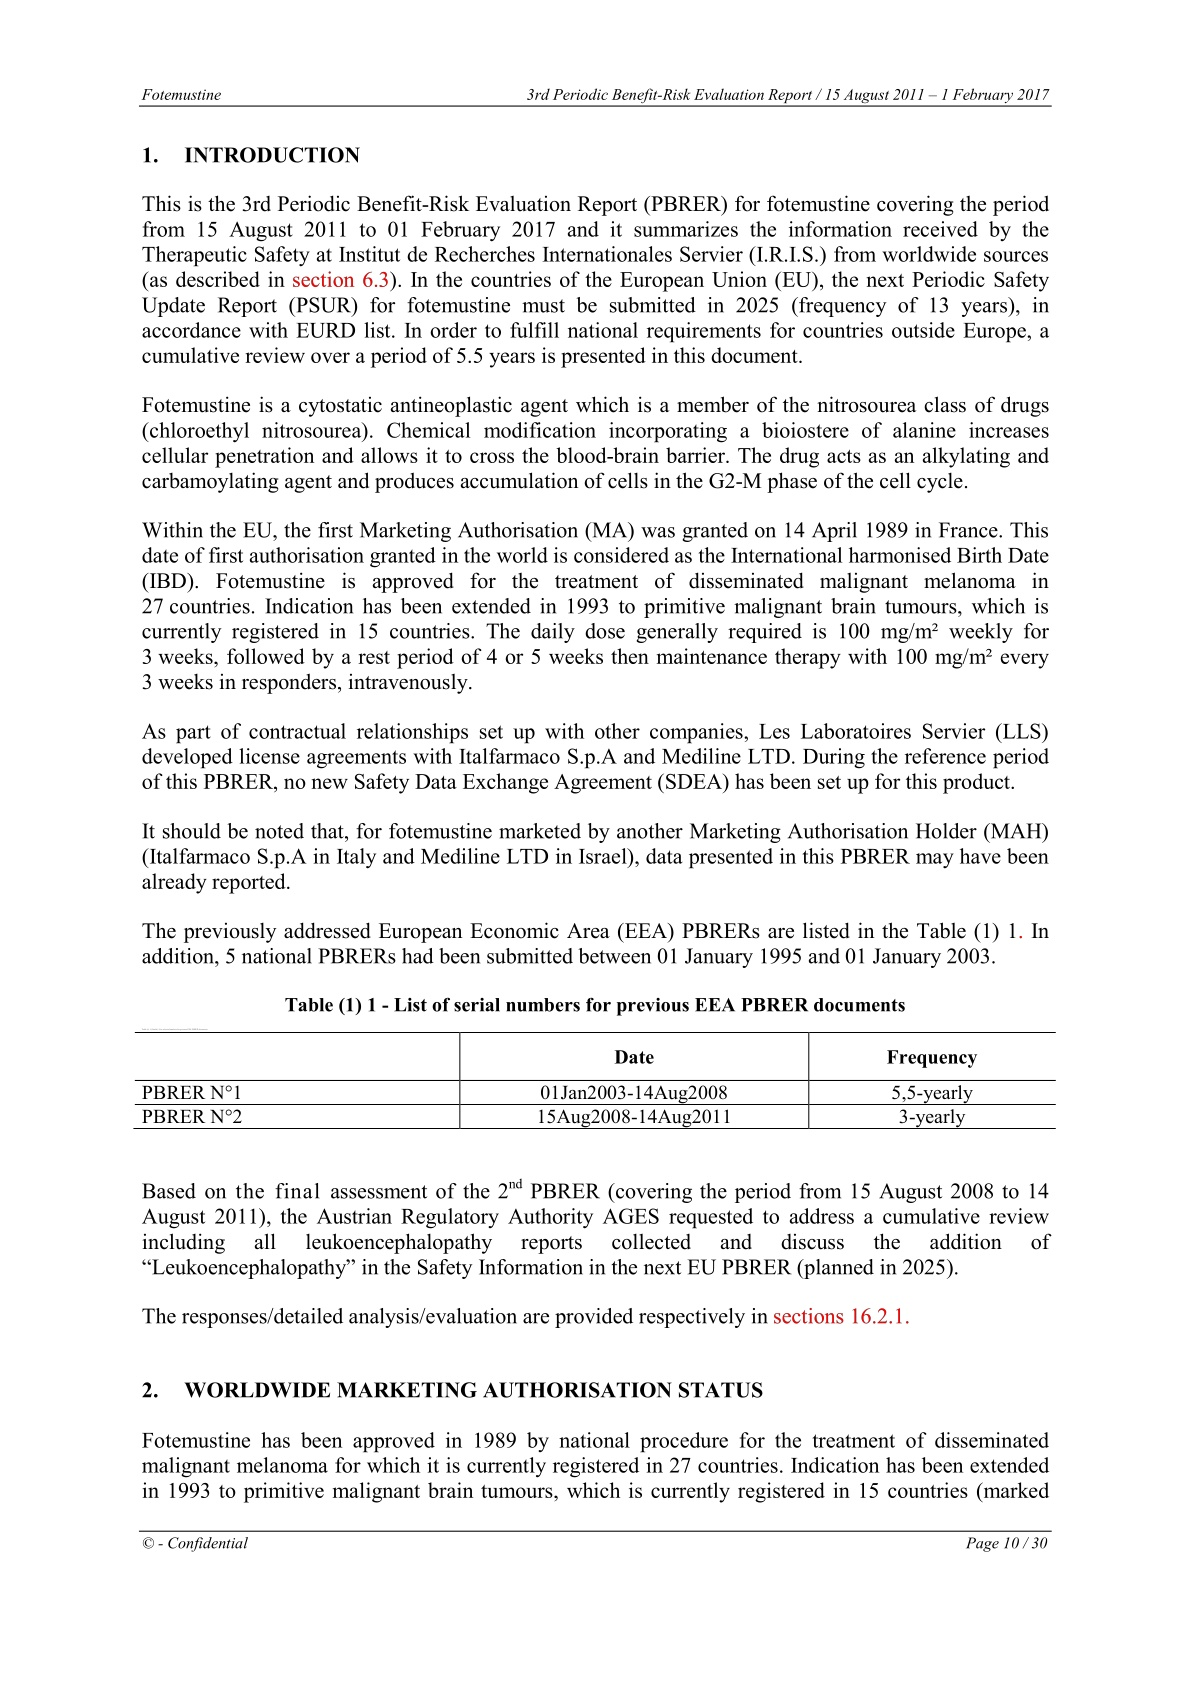partial_lined: (133, 1029, 1057, 1131)
